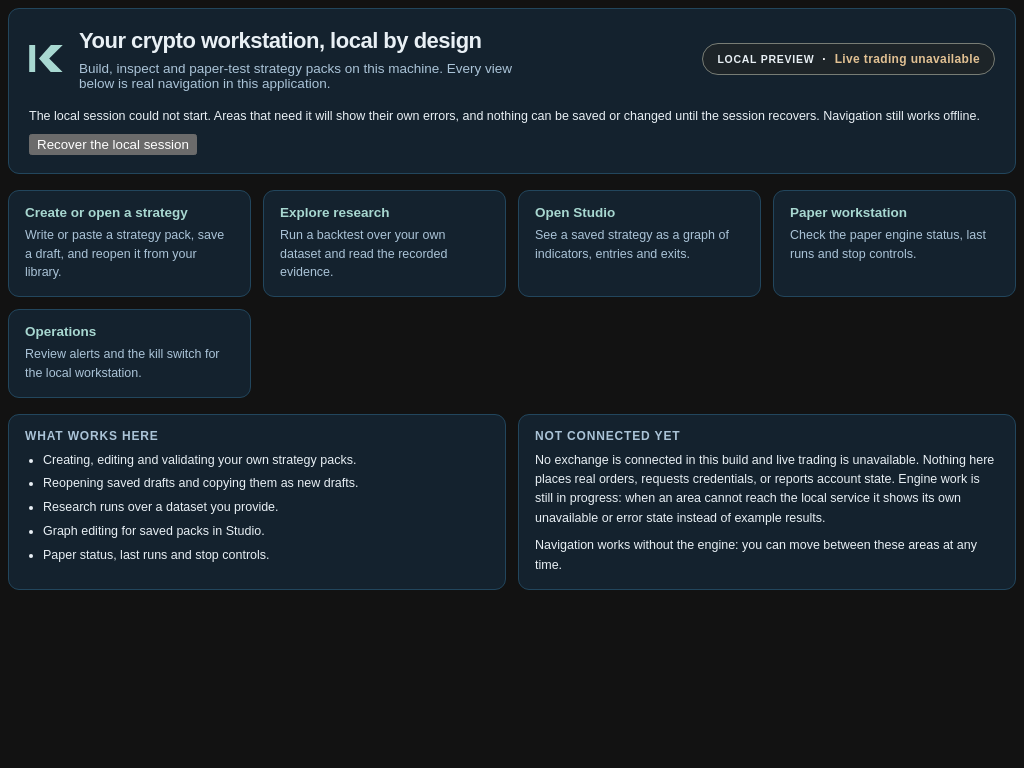
Home session recovery › shows each click's cause, clears it on retry, and keeps retry enabled
Click the button with test id "app-home-recover-session": {"x": 113, "y": 144} [29,134,197,155]
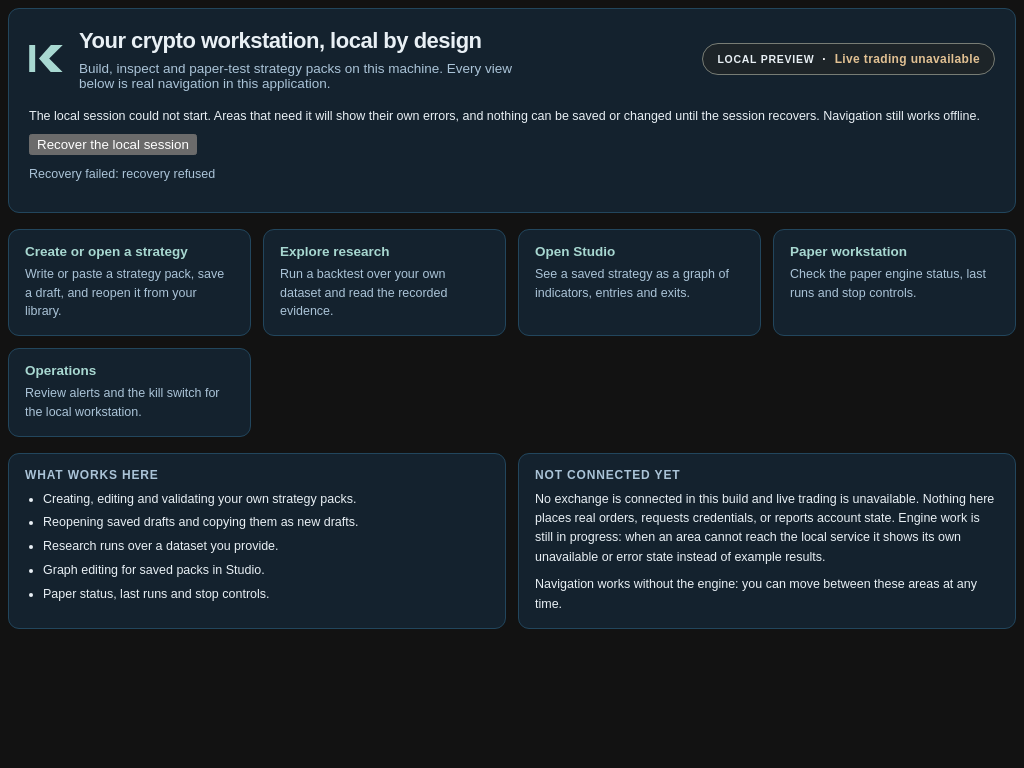
Result: the message with test id "apphome-recover-error" shows "recovery refused" at [122,167,215,181]
Click the button with test id "app-home-recover-session": {"x": 113, "y": 144} [29,134,197,155]
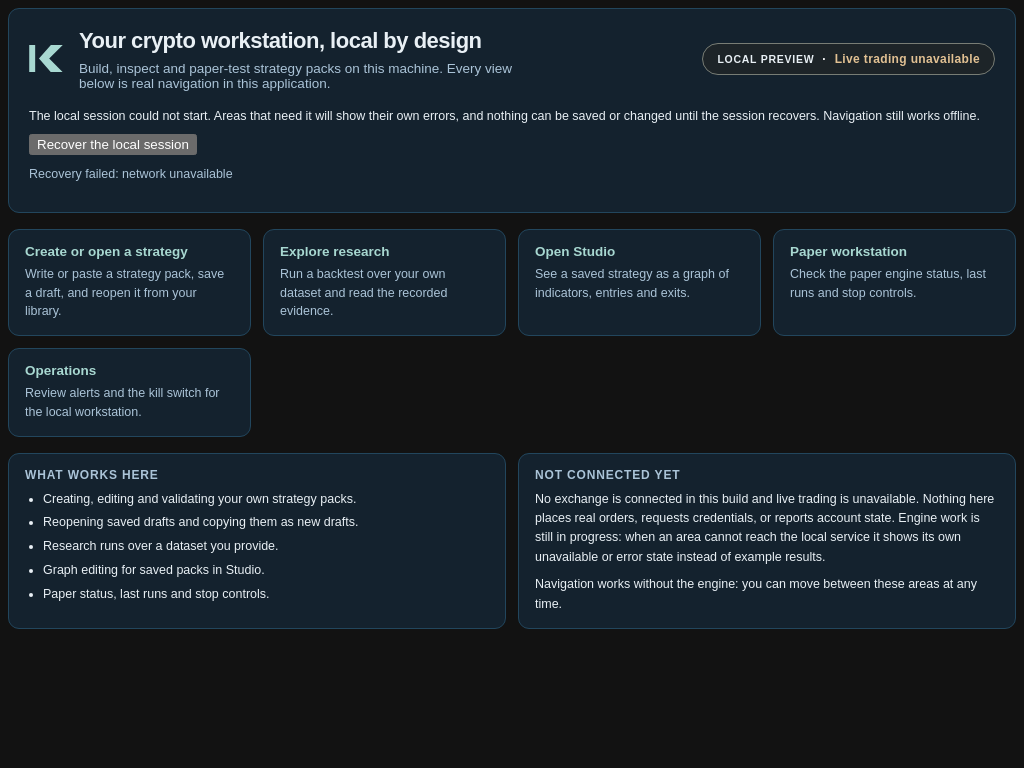
Result: the message with test id "apphome-recover-error" shows "network unavailable" at [122,167,233,181]
Result: the message with test id "apphome-recover-error" no longer shows "recovery refused"
Click the button with test id "app-home-recover-session": {"x": 113, "y": 144} [29,134,197,155]
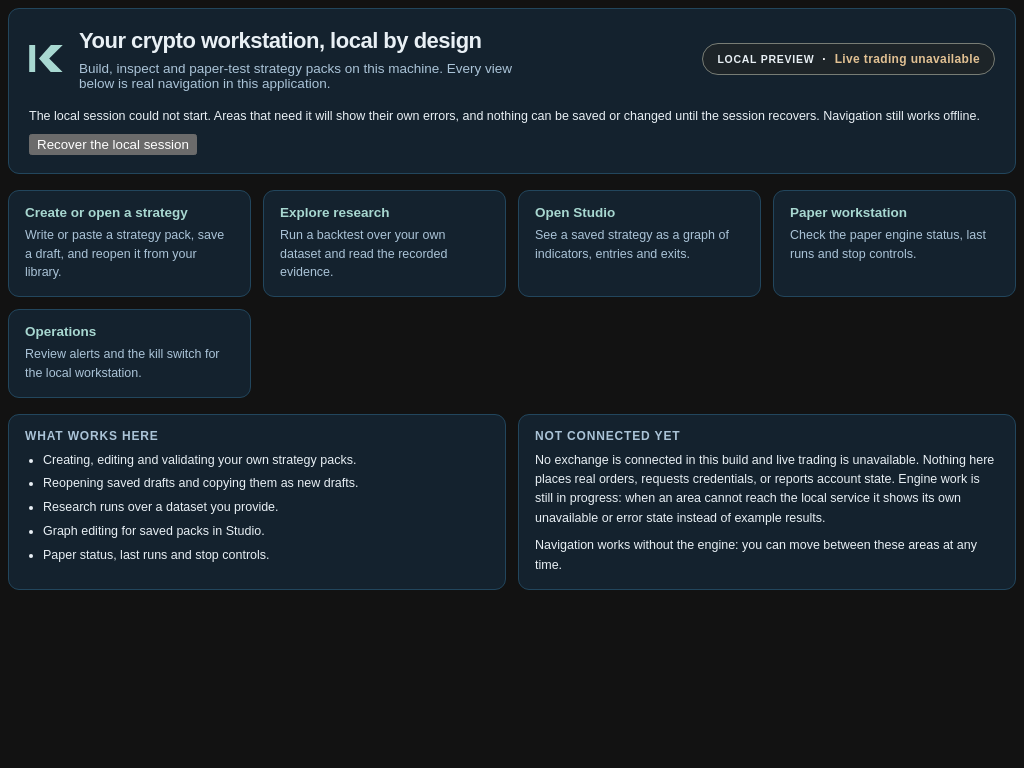
Result: the message with test id "apphome-recover-error" is gone
